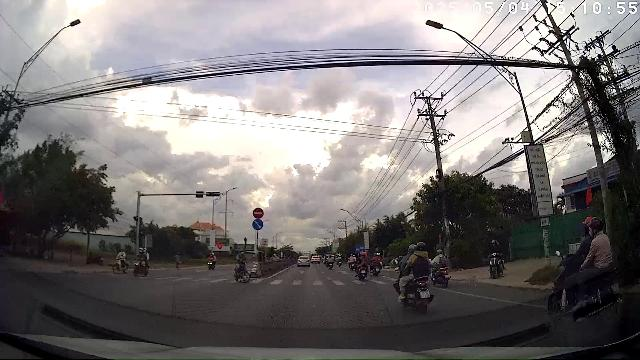102-cam-di-nguoc-chieu: (253, 207, 264, 218)
302a-huong-phai-di-vong-chuong-ngai-vat-1: (252, 219, 264, 230)
